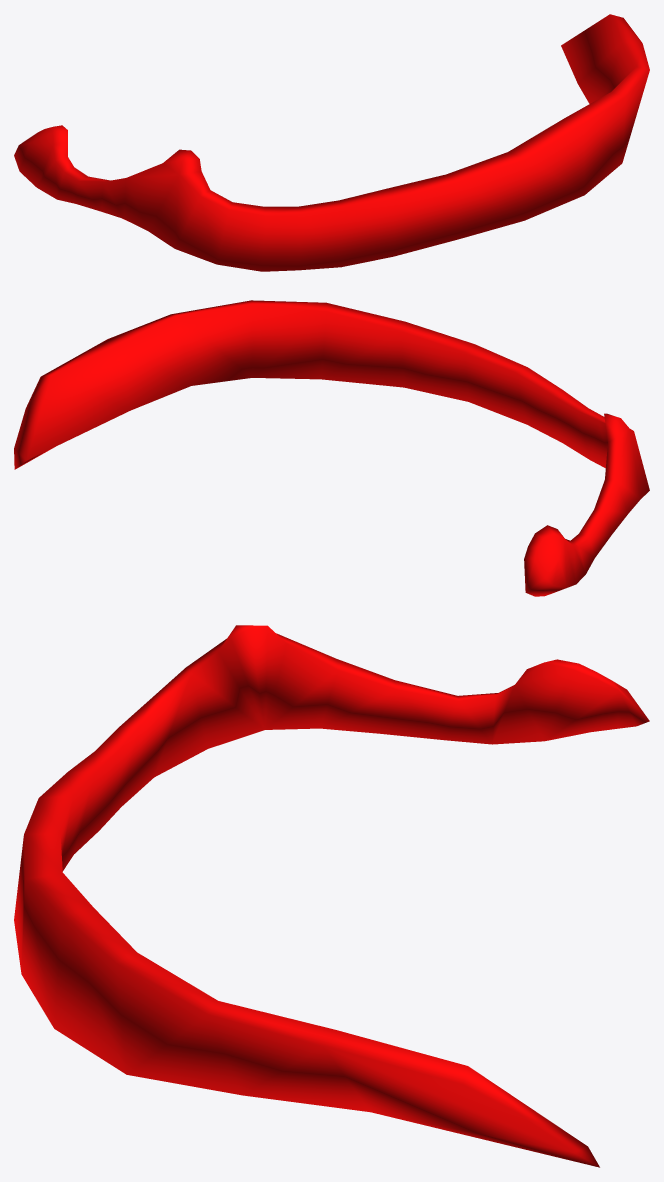
The model's file is SM_L_Ribs_2.FBX.
3 views of the same model, one above another, from view 1: azimuth 30°, elevation 25°; view 2: azimuth 150°, elevation 25°; view 3: azimuth 270°, elevation 25° (orthographic). The views are drawn at different scales.
Parts seen in each view (by area): view 1: L_Ribs_2; view 2: L_Ribs_2; view 3: L_Ribs_2.
Part boxes in pixels (x1=…): L_Ribs_2: x1=14, y1=14, x2=649, y2=271; L_Ribs_2: x1=14, y1=300, x2=649, y2=596; L_Ribs_2: x1=14, y1=625, x2=649, y2=1167.
Bounding box in the file's own units: 12.54 × 2.02 × 7.48.
